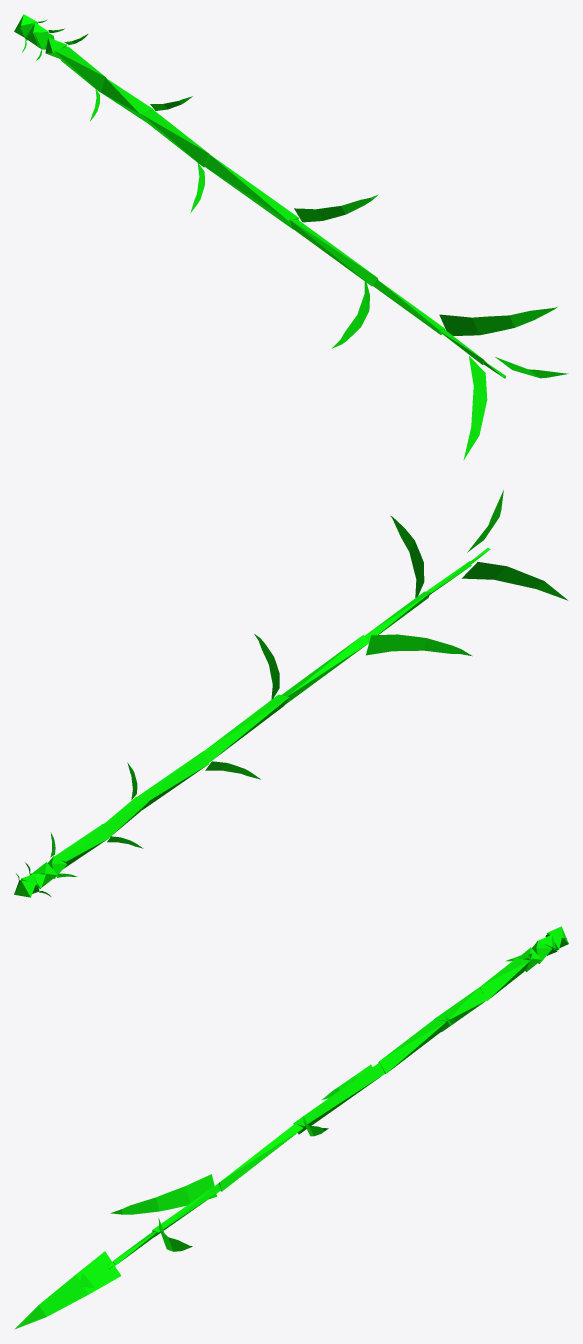
Rendered from usm_16_Beer_2018-08-05_4.obj.
3 views of the same model, one above another, from view 1: azimuth 30°, elevation 25°; view 2: azimuth 150°, elevation 25°; view 3: azimuth 330°, elevation 25° (orthographic). The views are drawn at different scales.
Parts seen in each view (by area): view 1: vid_24, vid_19, vid_17, vid_21, vid_26, vid_13, vid_20, vid_15, vid_23, vid_22; view 2: vid_22, vid_26, vid_19, vid_17, vid_21, vid_13, vid_24, vid_15, vid_23; view 3: vid_26, vid_22, vid_19, vid_17, vid_21, vid_13, vid_15, vid_28, vid_23.
Part boxes in pixels (x1,y1,x2,y2): vid_24: [439, 307, 557, 335]; vid_19: [204, 155, 298, 229]; vid_17: [141, 110, 209, 167]; vid_21: [290, 219, 378, 286]; vid_26: [463, 356, 487, 459]; vid_13: [54, 46, 106, 91]; vid_20: [294, 194, 378, 222]; vid_15: [100, 78, 153, 122]; vid_23: [373, 279, 444, 334]; vid_22: [331, 276, 369, 348]; vid_22: [366, 634, 472, 656]; vid_26: [462, 562, 567, 600]; vid_19: [204, 694, 289, 762]; vid_17: [137, 751, 209, 809]; vid_21: [281, 635, 368, 704]; vid_13: [54, 824, 108, 868]; vid_24: [390, 515, 424, 597]; vid_15: [103, 797, 148, 837]; vid_23: [364, 591, 430, 641]; vid_26: [14, 1251, 121, 1329]; vid_22: [110, 1174, 216, 1214]; vid_19: [293, 1062, 384, 1134]; vid_17: [378, 1019, 446, 1073]; vid_21: [218, 1123, 302, 1191]; vid_13: [479, 958, 529, 1000]; vid_15: [434, 987, 486, 1031]; vid_28: [79, 1257, 115, 1287]; vid_23: [152, 1183, 220, 1236].
Size of the model in its own units: 38.8 by 20.66 by 224.
